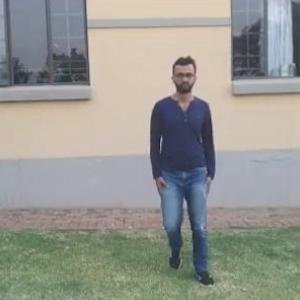follow: (148, 57, 212, 274)
